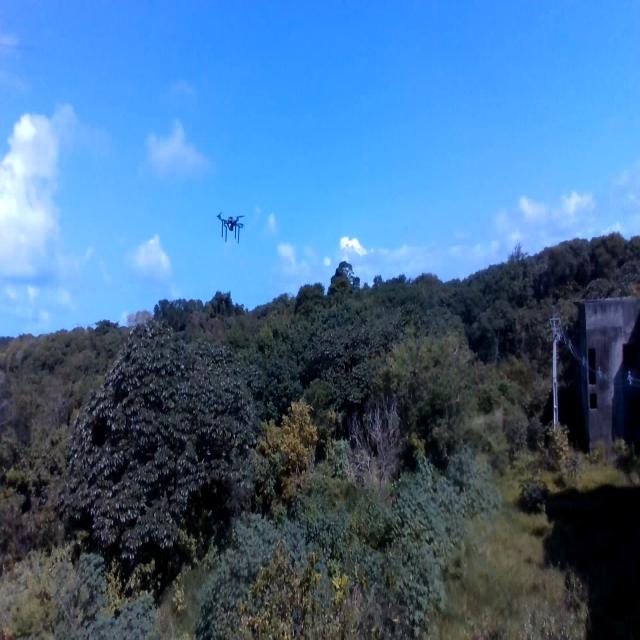-uav-: (208, 196, 254, 264)
